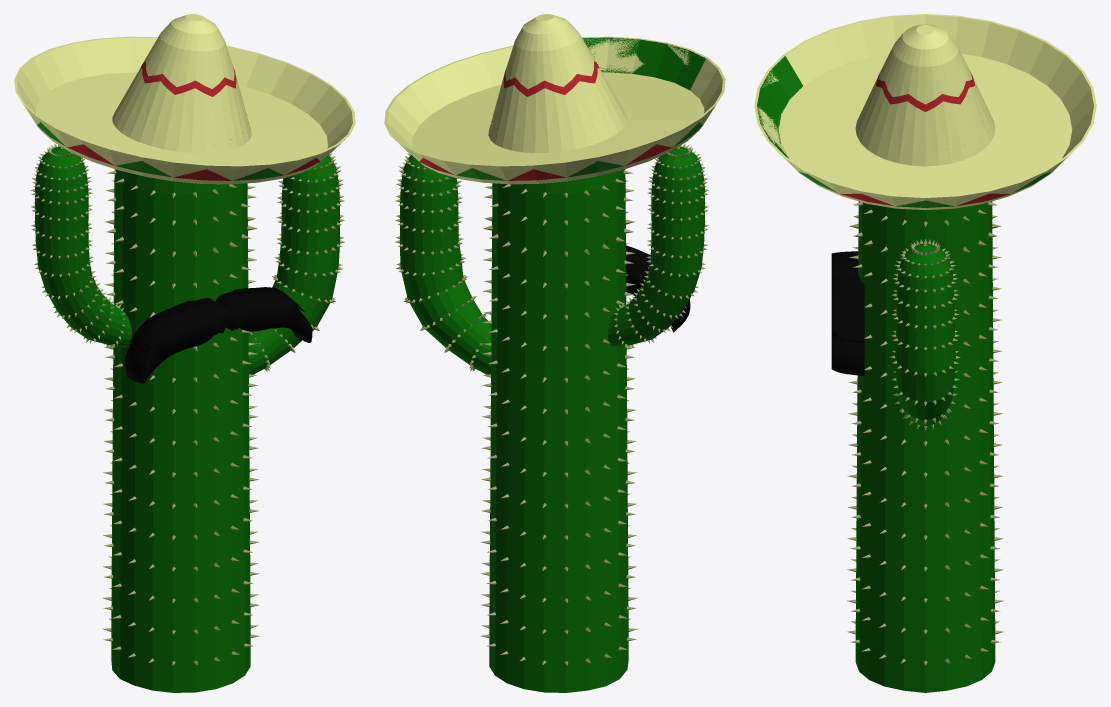
File: cactus bandit 1.fbx
The picture shows the model from 3 angles, left to right: view 1: azimuth 30°, elevation 25°; view 2: azimuth 150°, elevation 25°; view 3: azimuth 270°, elevation 25°; orthographic projection.
Visible parts, largest first — view 1: cactus bandit 1; view 2: cactus bandit 1; view 3: cactus bandit 1.
Boxes of the visible parts, <box> form: cactus bandit 1: <box>14,14,355,692</box>; cactus bandit 1: <box>384,14,725,692</box>; cactus bandit 1: <box>754,14,1096,692</box>.
Size of the model in its own units: 511 by 1029 by 498.
